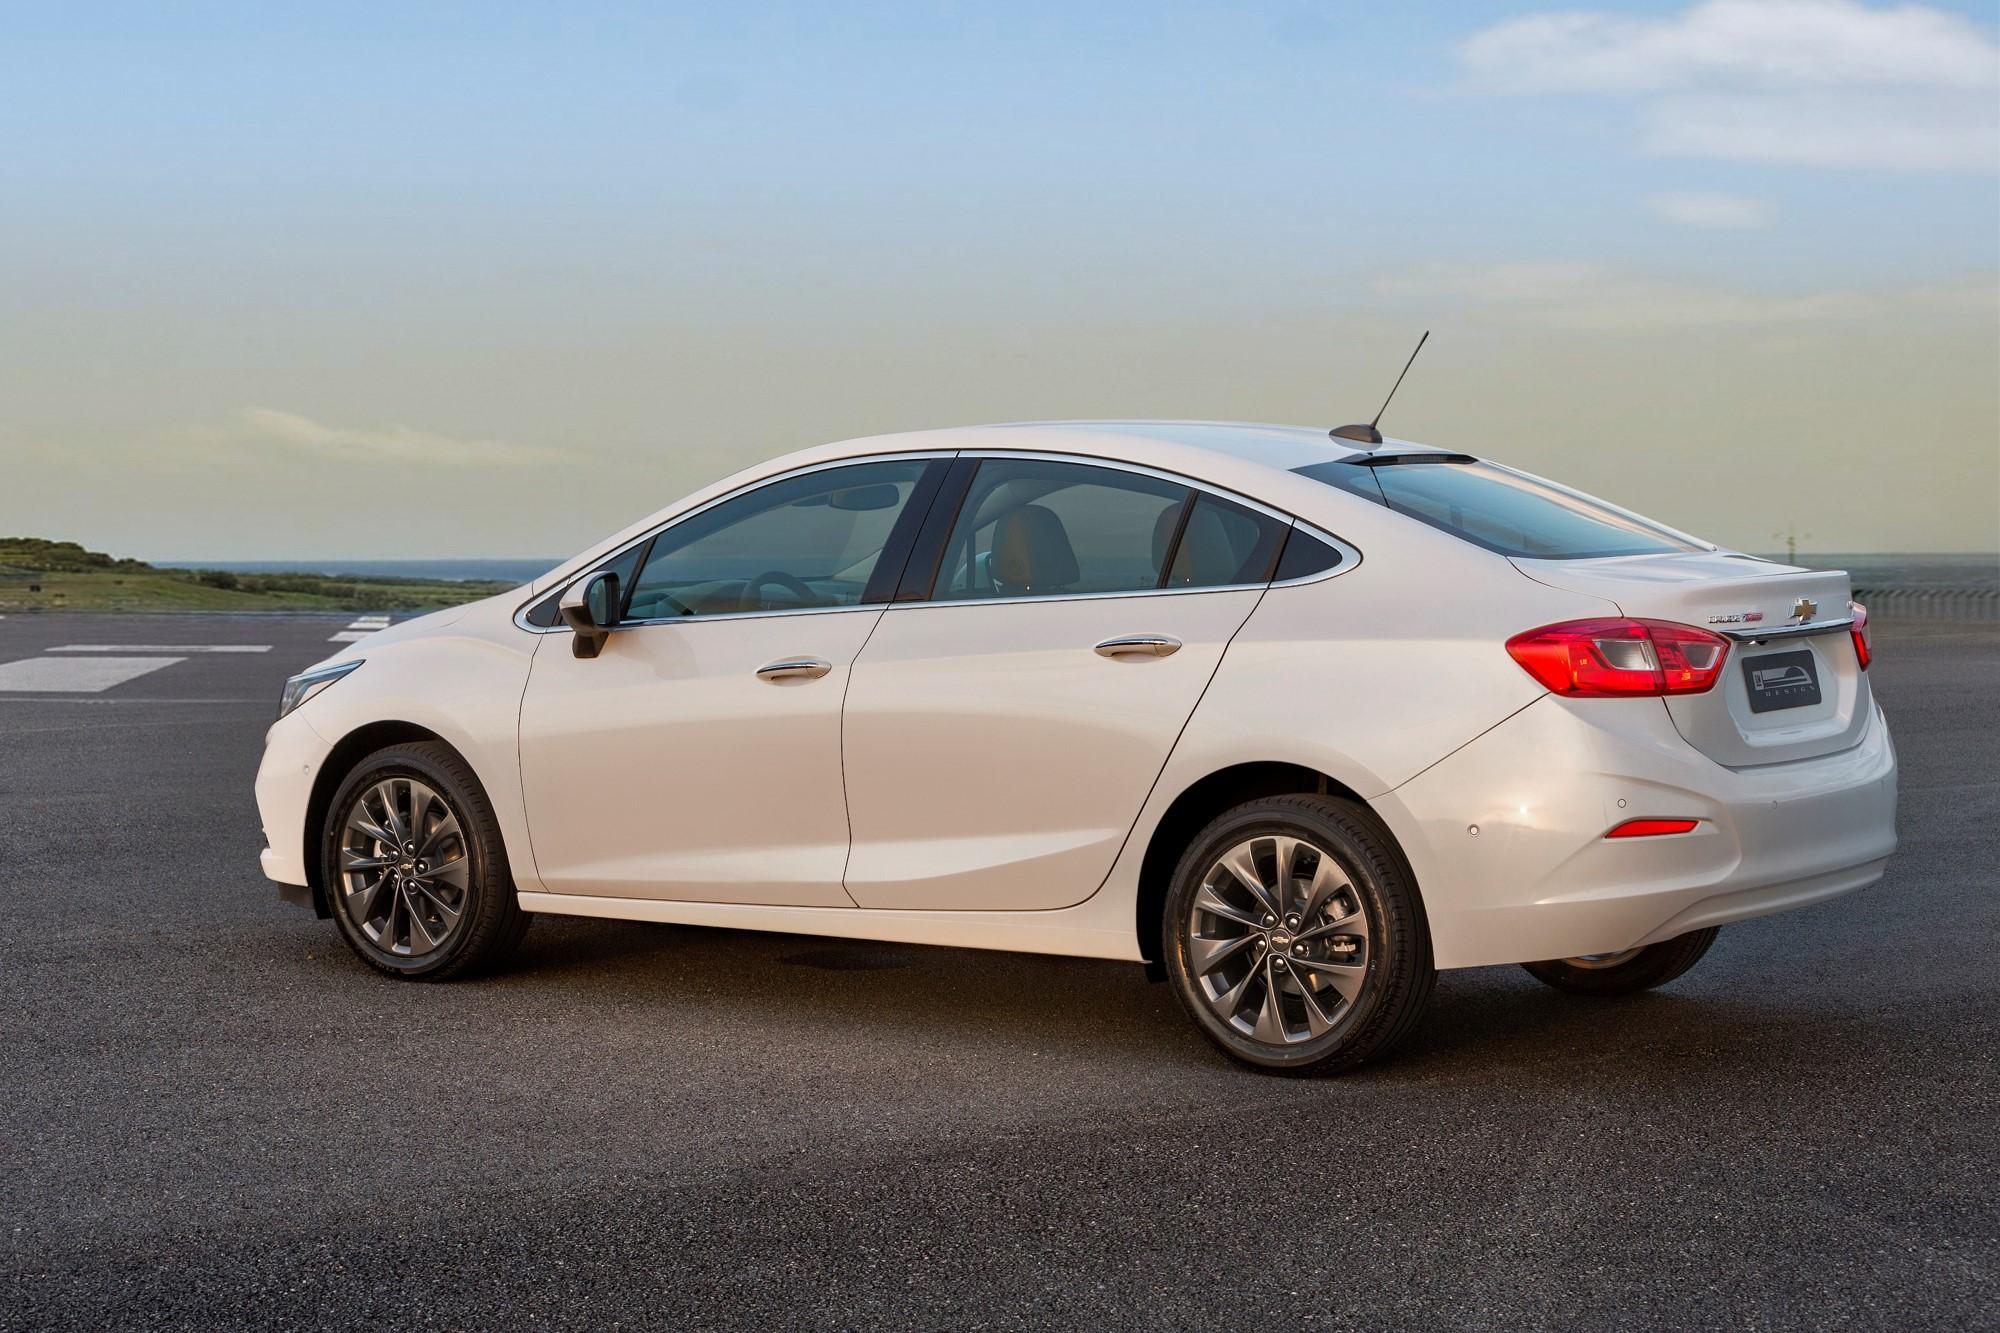Carro: (251, 396, 1914, 1064)
